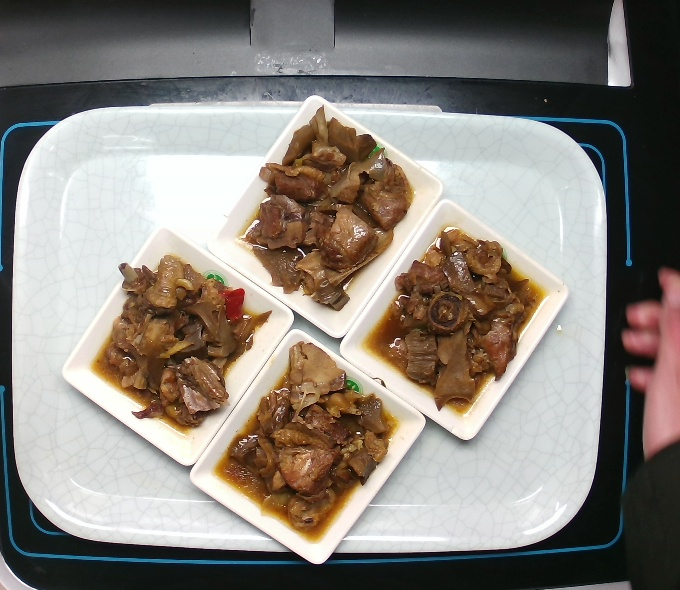wcq-YaRouSunGan: (212, 338, 398, 541), (239, 101, 414, 313), (367, 225, 544, 412), (93, 251, 273, 434)
